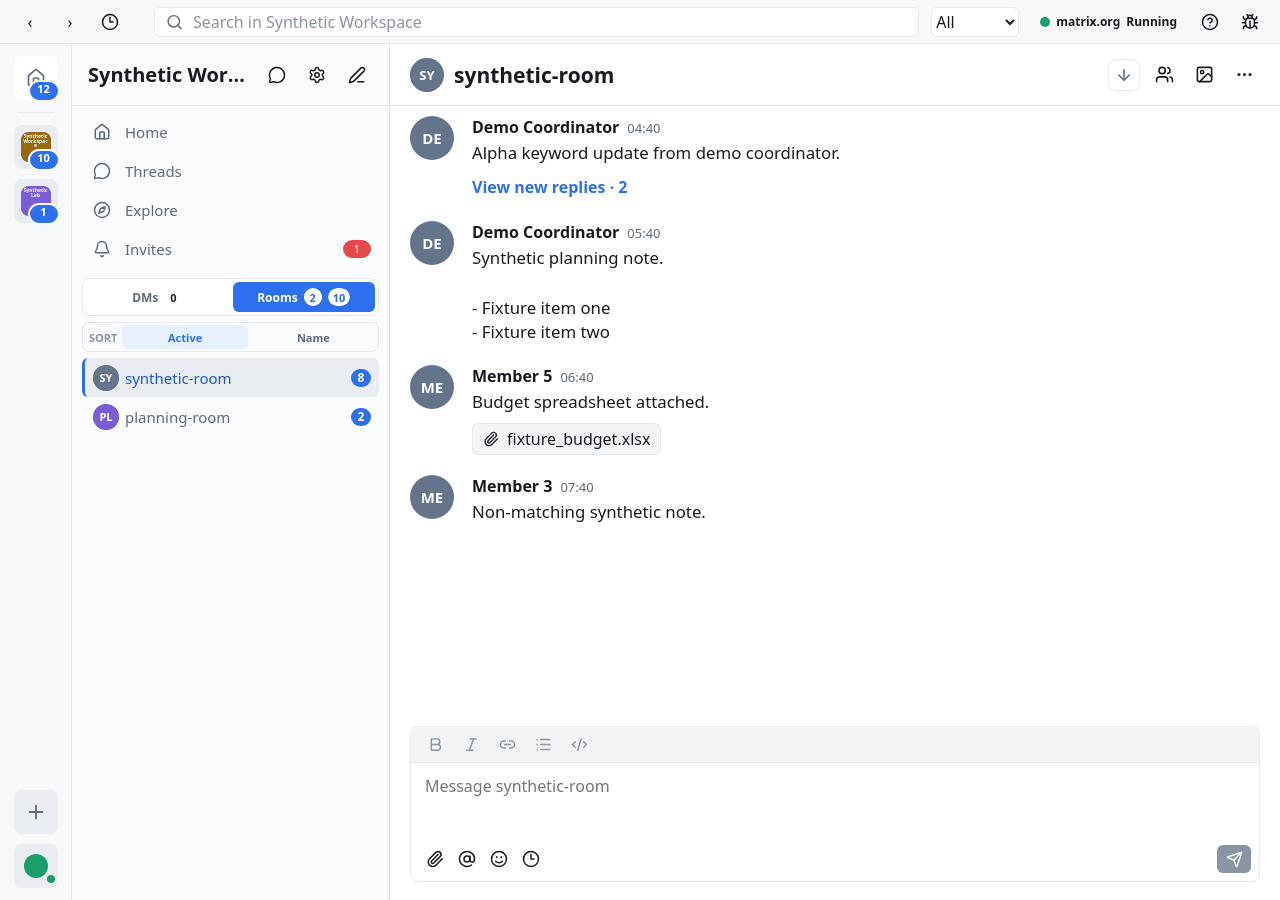
App search lifecycle › replaces previous results with the current pending query
Step 1. Type "Alpha" into the field labelled "Search" → (537, 22), box [154,6,919,36]
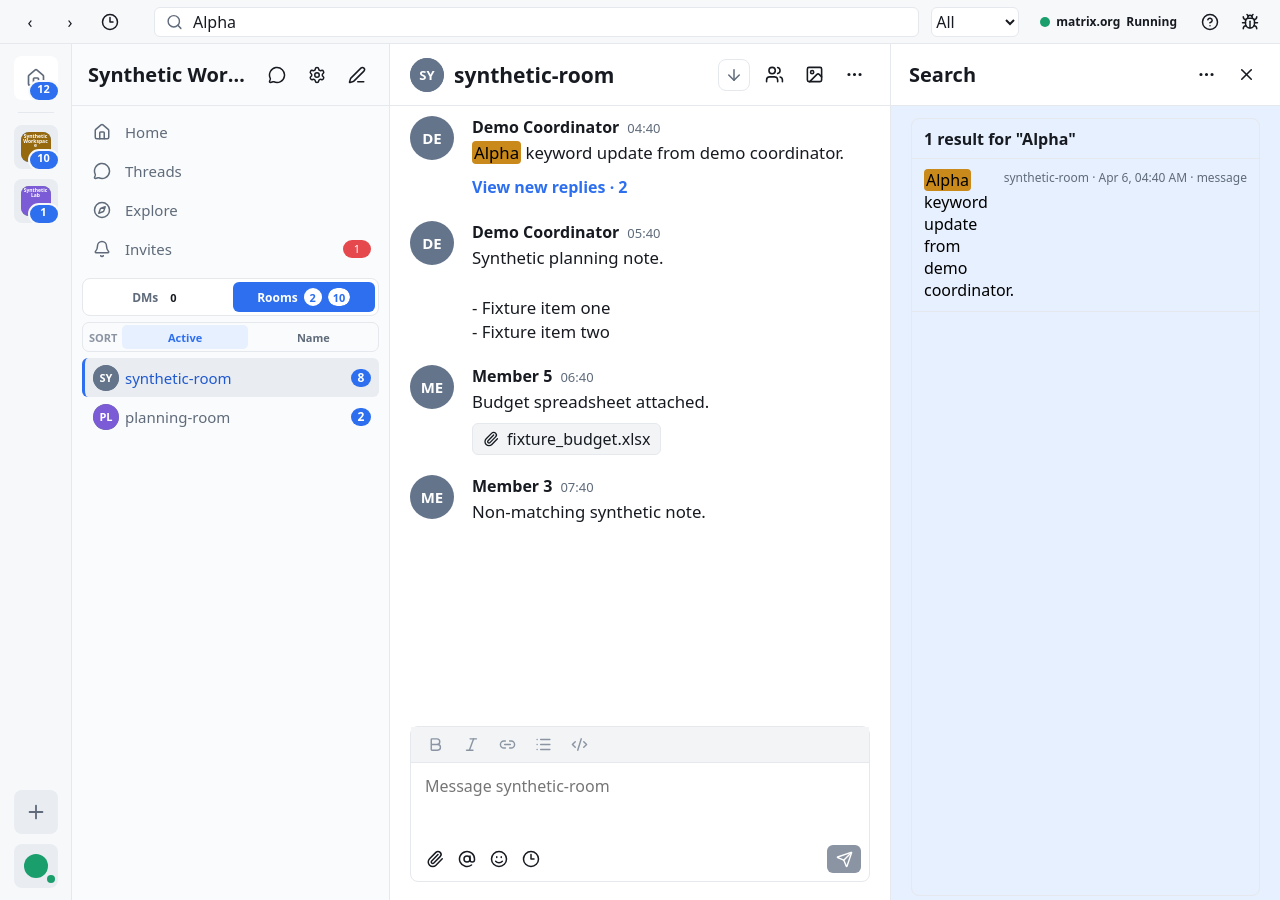
Expected: the text "1 result for \"Alpha\"" is shown, [924,128,1076,150]
Step 2. Replace the text in the field named "Search" with "Beta" → (537, 22), box [154,6,919,36]
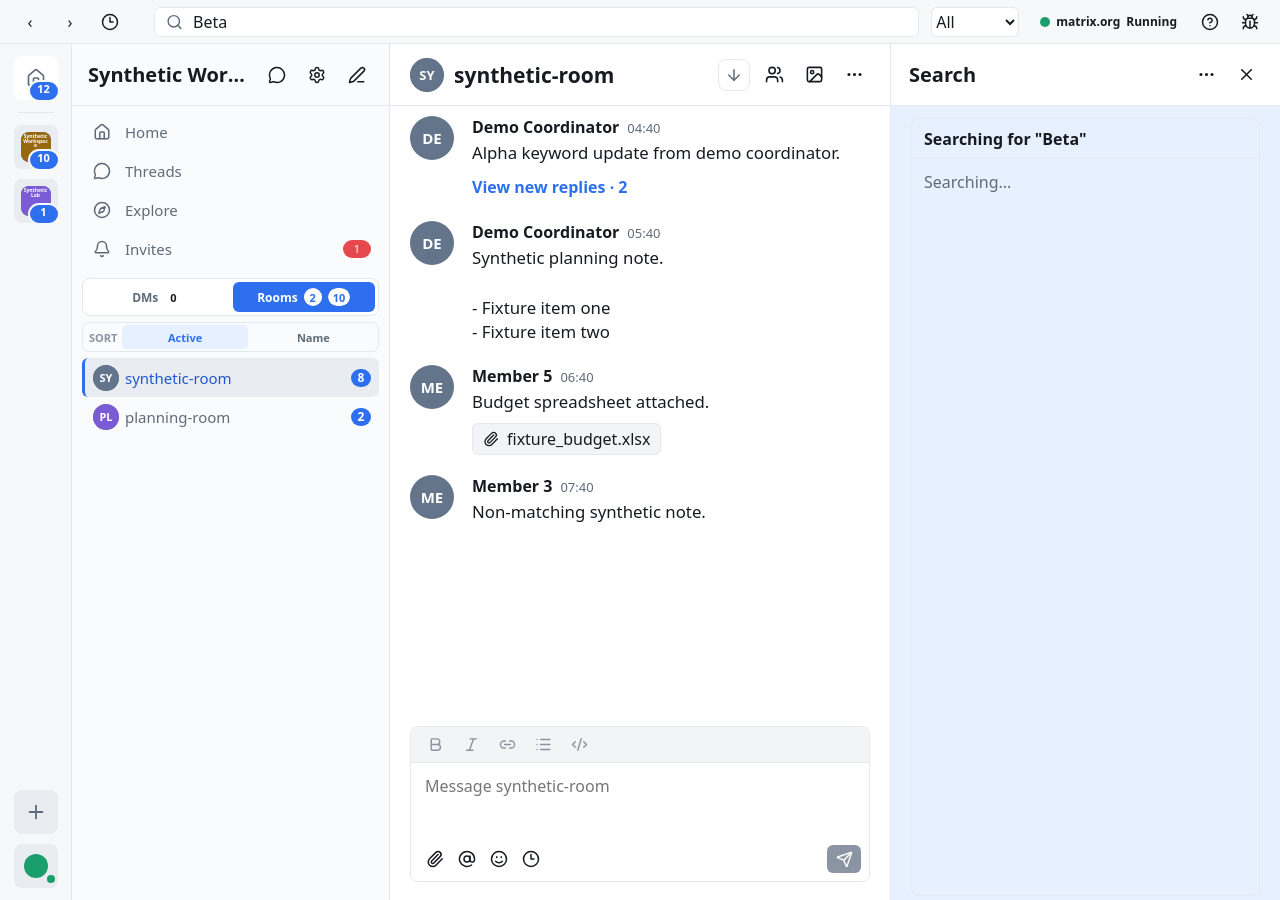
Expected: the text "Searching for \"Beta\"" is shown, [924,128,1087,150]
Expected: the text "1 result for \"Alpha\"" is gone
